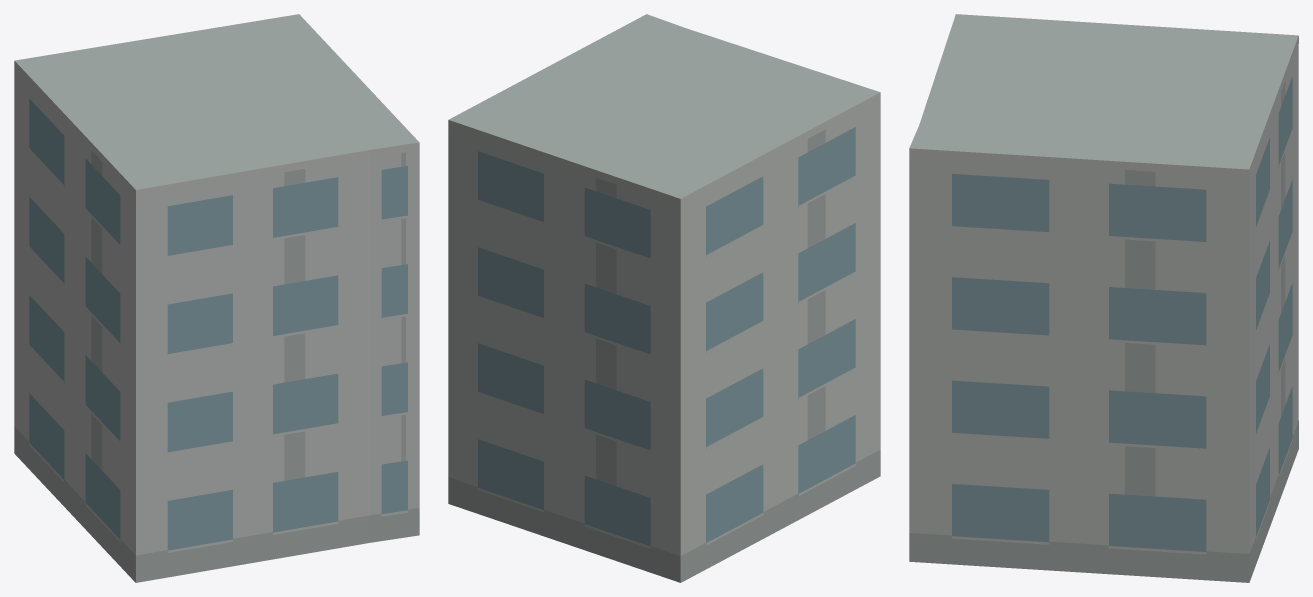
The model's file is residential-c8924b34-7f5b-455d-8eb2-5ec2be2c672c.glb.
3 views of the same model, side by side, from view 1: azimuth 30°, elevation 25°; view 2: azimuth 150°, elevation 25°; view 3: azimuth 270°, elevation 25° (orthographic). The views are drawn at different scales.
Parts seen in each view (by area): view 1: residential-c8924b34-7f5b-455d-8eb2-5ec2be2c672c.tmp; view 2: residential-c8924b34-7f5b-455d-8eb2-5ec2be2c672c.tmp; view 3: residential-c8924b34-7f5b-455d-8eb2-5ec2be2c672c.tmp.
Part boxes in pixels (<box>): residential-c8924b34-7f5b-455d-8eb2-5ec2be2c672c.tmp: <box>14,14,419,582</box>; residential-c8924b34-7f5b-455d-8eb2-5ec2be2c672c.tmp: <box>448,14,880,582</box>; residential-c8924b34-7f5b-455d-8eb2-5ec2be2c672c.tmp: <box>909,14,1298,582</box>.
Size of the model in its own units: 9.85 by 12.2 by 10.43.
